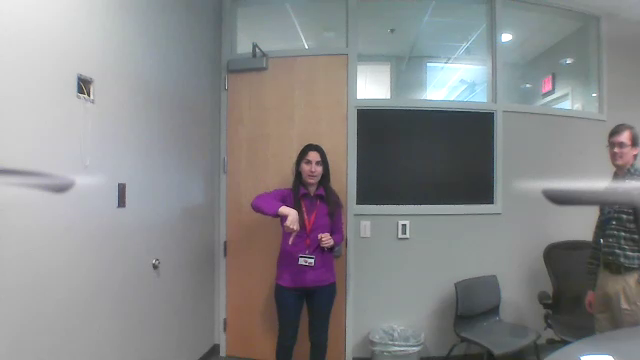down: (282, 204, 300, 251)
